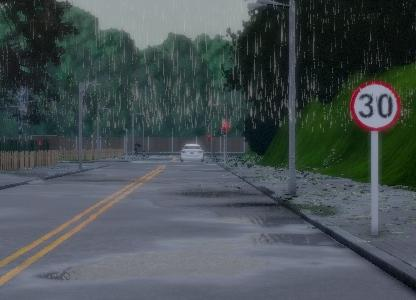Speed_30: (348, 79, 404, 134)
